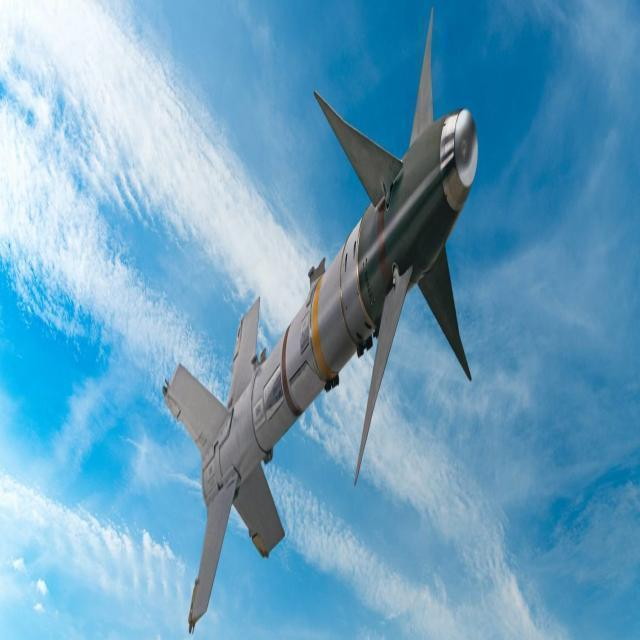missile: (170, 19, 480, 638)
